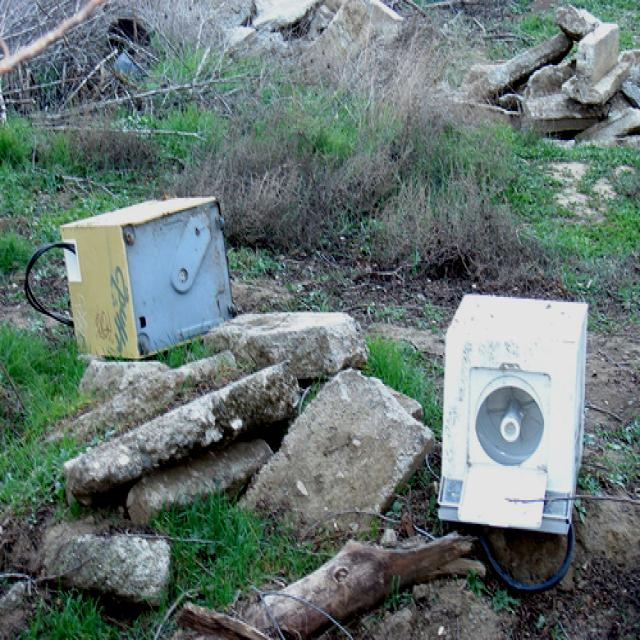garbage: (433, 284, 618, 548), (31, 184, 234, 366)
